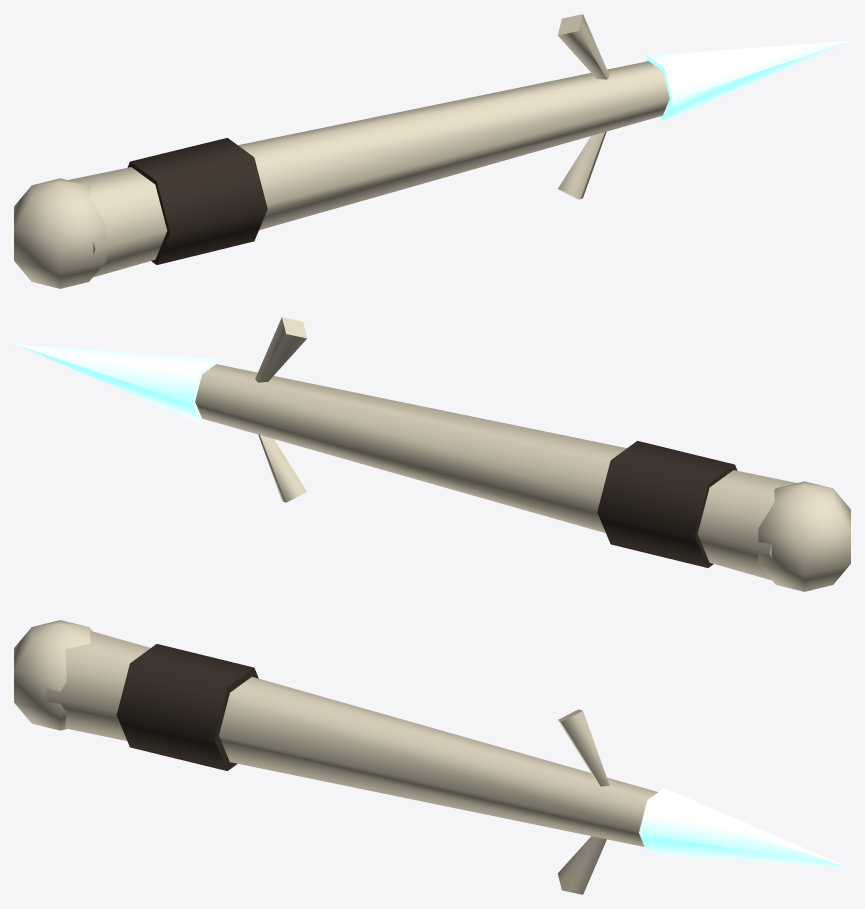
Rendered from bone-dart.glb.
3 renders of one model, top to bottom at view 1: azimuth 30°, elevation 25°; view 2: azimuth 150°, elevation 25°; view 3: azimuth 330°, elevation 25°, orthographic.
Parts seen in each view (by area): view 1: Mesh_Shaft, Mesh_Wrap, Mesh_Knuckle, Mesh_Point, Mesh_BarbA, Mesh_BarbB; view 2: Mesh_Shaft, Mesh_Wrap, Mesh_Knuckle, Mesh_Point, Mesh_BarbA, Mesh_BarbB; view 3: Mesh_Shaft, Mesh_Wrap, Mesh_Point, Mesh_Knuckle, Mesh_BarbA, Mesh_BarbB.
Boxes of the visible parts, box(x1,y1,x2,y2) form: Mesh_Shaft: box(68, 61, 669, 277); Mesh_Wrap: box(127, 138, 267, 264); Mesh_Knuckle: box(14, 178, 106, 288); Mesh_Point: box(645, 40, 850, 120); Mesh_BarbA: box(557, 14, 609, 79); Mesh_BarbB: box(558, 131, 606, 199); Mesh_Shaft: box(195, 364, 796, 580); Mesh_Wrap: box(597, 441, 737, 567); Mesh_Knuckle: box(758, 481, 850, 591); Mesh_Point: box(14, 343, 219, 423); Mesh_BarbA: box(255, 317, 307, 382); Mesh_BarbB: box(258, 434, 306, 502); Mesh_Shaft: box(45, 631, 657, 846); Mesh_Wrap: box(116, 644, 258, 770); Mesh_Point: box(639, 788, 850, 868); Mesh_Knuckle: box(14, 620, 92, 730); Mesh_BarbA: box(558, 709, 609, 786); Mesh_BarbB: box(557, 836, 606, 894).
Bounding box in the file's own units: 1.72 × 0.3605 × 0.19.
